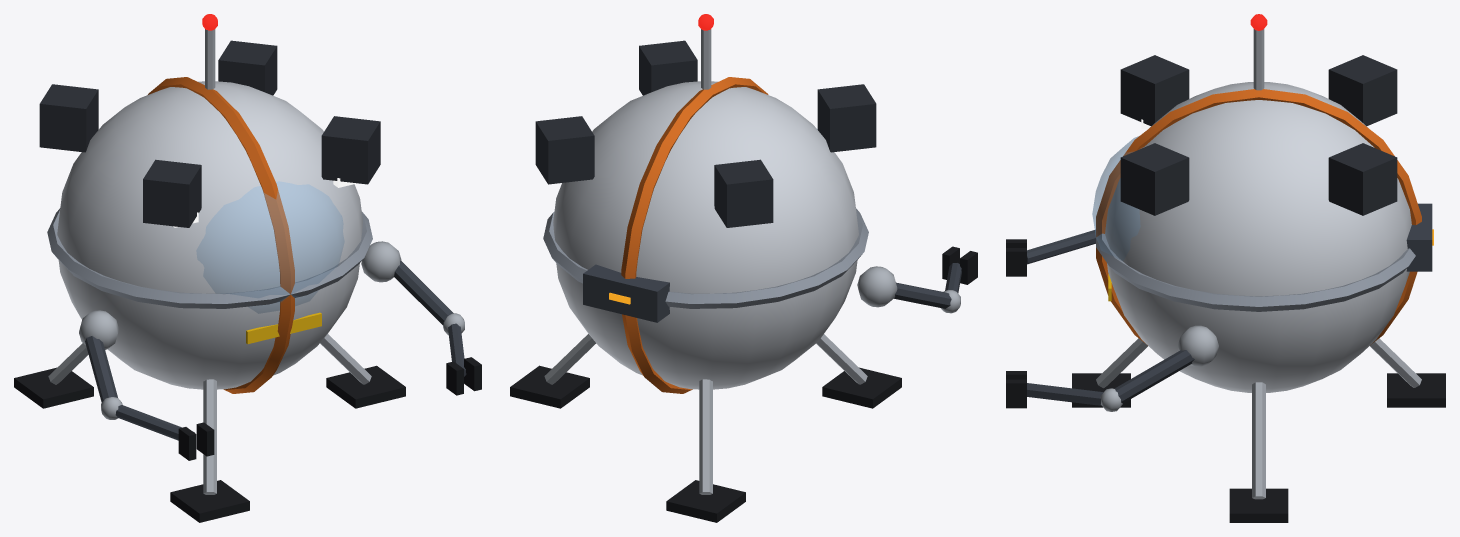
File: craft_eva_pod.glb
The picture shows the model from 3 angles, left to right: view 1: azimuth 30°, elevation 25°; view 2: azimuth 150°, elevation 25°; view 3: azimuth 270°, elevation 25°; orthographic projection.
Parts seen in each view (by area): view 1: craft_eva_pod; view 2: craft_eva_pod; view 3: craft_eva_pod.
Boxes of the visible parts, bbox=[...] form: craft_eva_pod: bbox=[14, 14, 481, 522]; craft_eva_pod: bbox=[510, 14, 977, 522]; craft_eva_pod: bbox=[1006, 14, 1445, 522].
Bounding box in the file's own units: 2.44 × 2.67 × 2.54.
